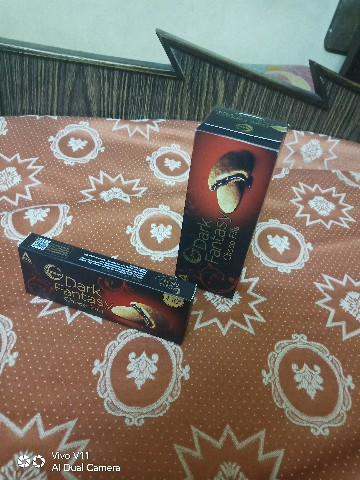darkfantasy big: (171, 84, 290, 307)
darkfantasy small: (15, 233, 194, 360)
